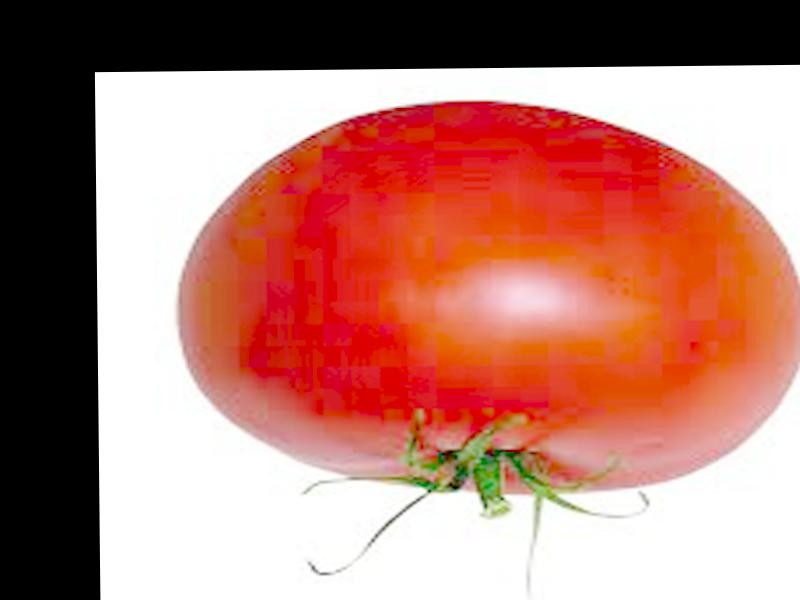Tomato: (180, 99, 800, 497)
